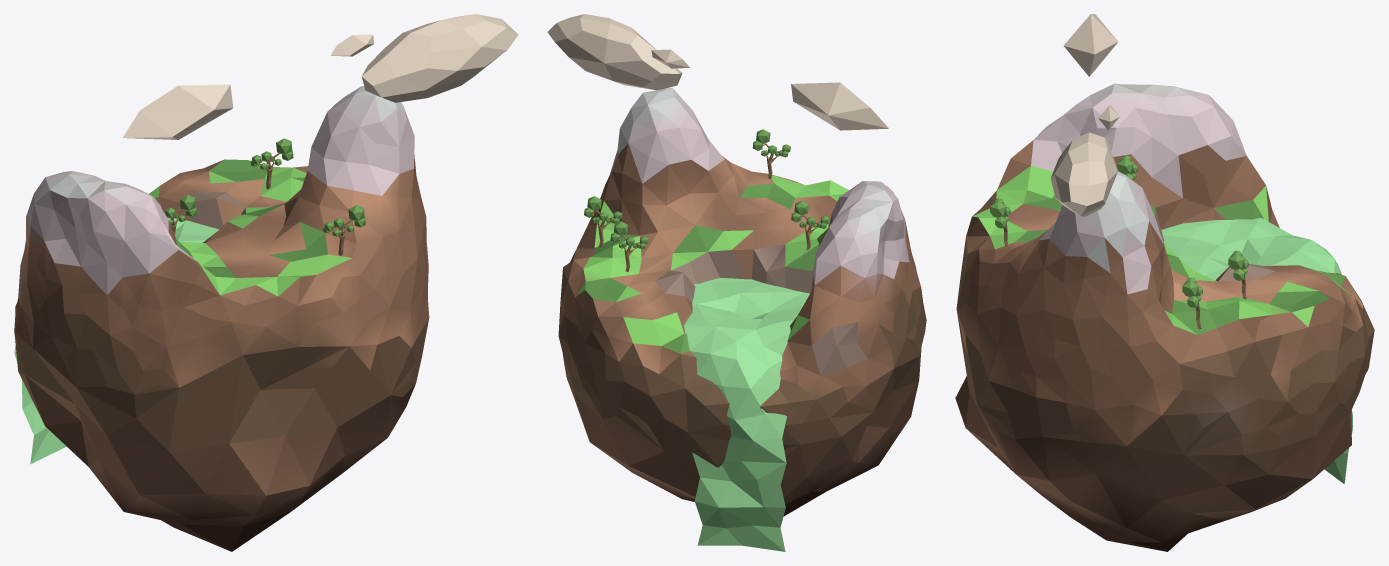
The model's file is skyblock.glb.
3 views of the same model, side by side, from view 1: azimuth 30°, elevation 25°; view 2: azimuth 150°, elevation 25°; view 3: azimuth 270°, elevation 25° (orthographic). The views are drawn at different scales.
Parts seen in each view (by area): view 1: Icosphere, Icosphere.005, Plane, Icosphere.004, Icosphere.003; view 2: Icosphere, Plane, Icosphere.005, Icosphere.001, Icosphere.004, Icosphere.003, Icosphere.002; view 3: Icosphere, Plane, Icosphere.005, Icosphere.001, Icosphere.004, Icosphere.003.
Part boxes in pixels (box(x1,y1,x2,y2)): Icosphere: box(14, 86, 429, 551); Icosphere.005: box(123, 14, 518, 139); Plane: box(14, 218, 427, 464); Icosphere.004: box(250, 138, 293, 189); Icosphere.003: box(323, 205, 365, 255); Icosphere: box(558, 87, 926, 516); Plane: box(684, 278, 809, 551); Icosphere.005: box(547, 14, 888, 130); Icosphere.001: box(584, 196, 622, 247); Icosphere.004: box(610, 221, 648, 272); Icosphere.003: box(752, 129, 790, 178); Icosphere.002: box(791, 201, 829, 249); Icosphere: box(955, 83, 1374, 551); Plane: box(1161, 218, 1352, 483); Icosphere.005: box(1051, 14, 1119, 216); Icosphere.001: box(1182, 277, 1202, 328); Icosphere.004: box(1228, 250, 1248, 299); Icosphere.003: box(990, 198, 1010, 246).
Bounding box in the file's own units: 24.06 × 25.83 × 19.61.
